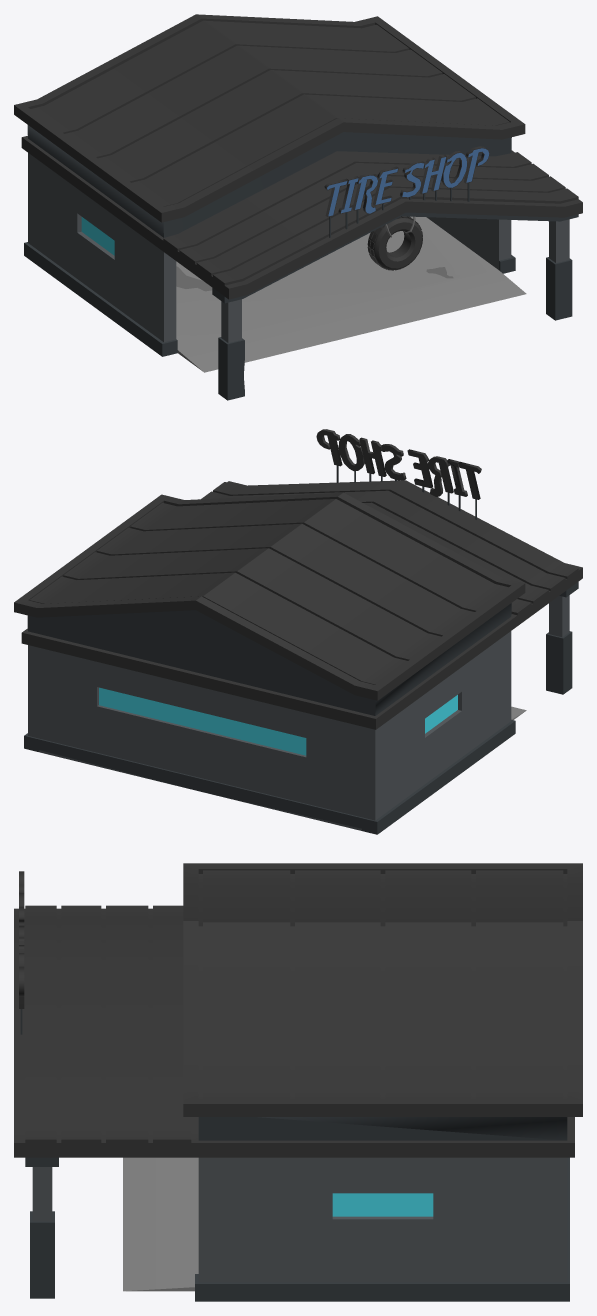
The model's file is SM_Buildings_Tire_Shop.fbx.
The picture shows the model from 3 angles, top to bottom: view 1: azimuth 30°, elevation 25°; view 2: azimuth 150°, elevation 25°; view 3: azimuth 270°, elevation 25°; orthographic projection. The views are drawn at different scales.
Visible parts, largest first — view 1: SM_Buildings_Tire_Shop; view 2: SM_Buildings_Tire_Shop; view 3: SM_Buildings_Tire_Shop.
Boxes of the visible parts, box(x1,y1,x2,y2) form: SM_Buildings_Tire_Shop: box(14, 14, 582, 400); SM_Buildings_Tire_Shop: box(14, 429, 582, 834); SM_Buildings_Tire_Shop: box(14, 863, 582, 1301).
Size of the model in its own units: 15 by 7.72 by 15.
